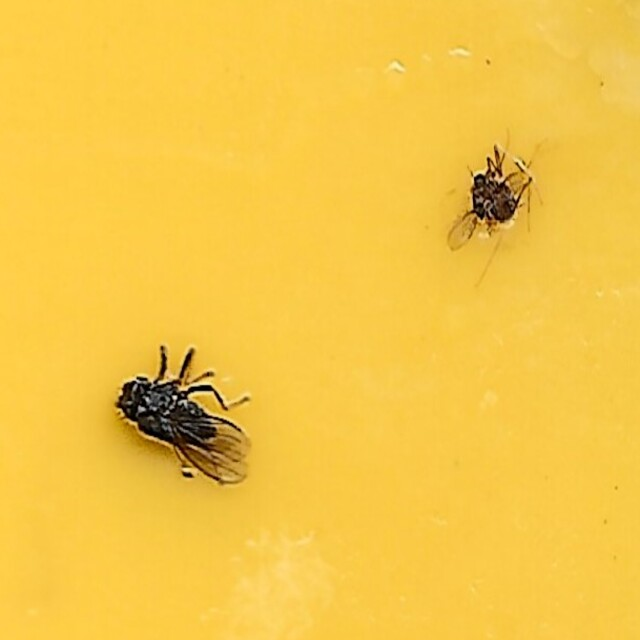Brachycera: (105, 343, 259, 495)
Nematocera: (446, 145, 535, 262)
